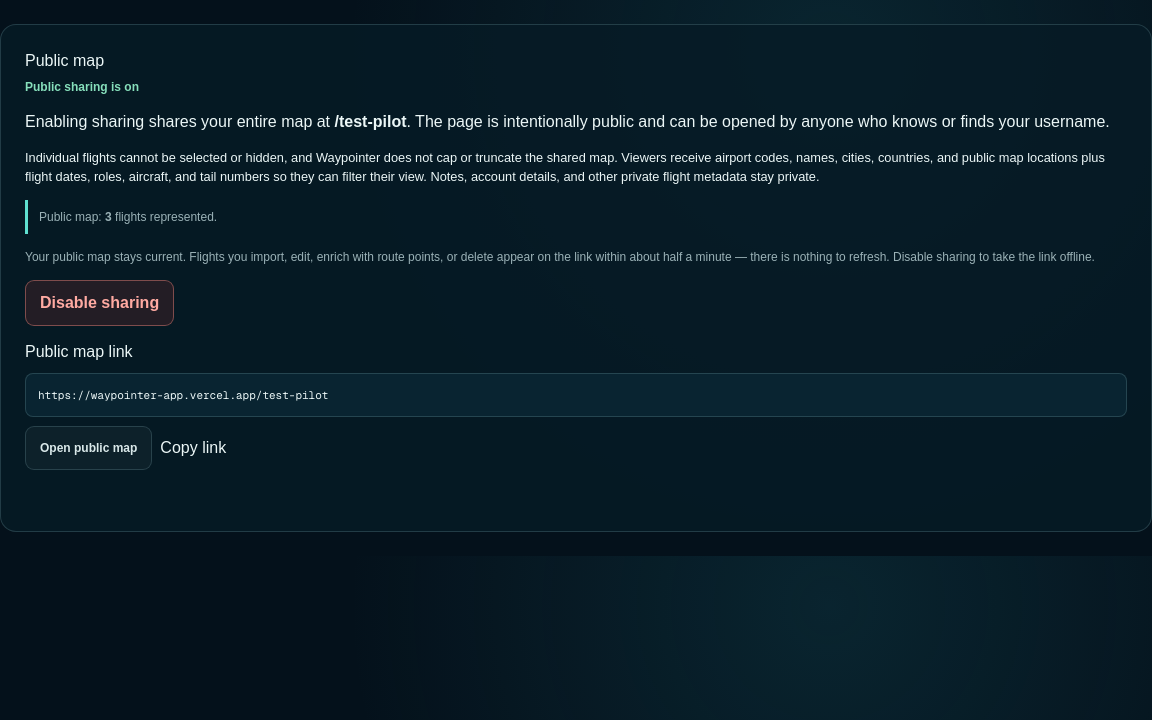
Scenario: MapSharingPanel › links to the full public URL in a safe new tab and disables sharing
Expected: the text "Public sharing is on" is shown, x1=25 y1=78 x2=139 y2=96
Step 1. Click the button "Disable sharing" → x=100, y=303, box x1=25 y1=280 x2=174 y2=326
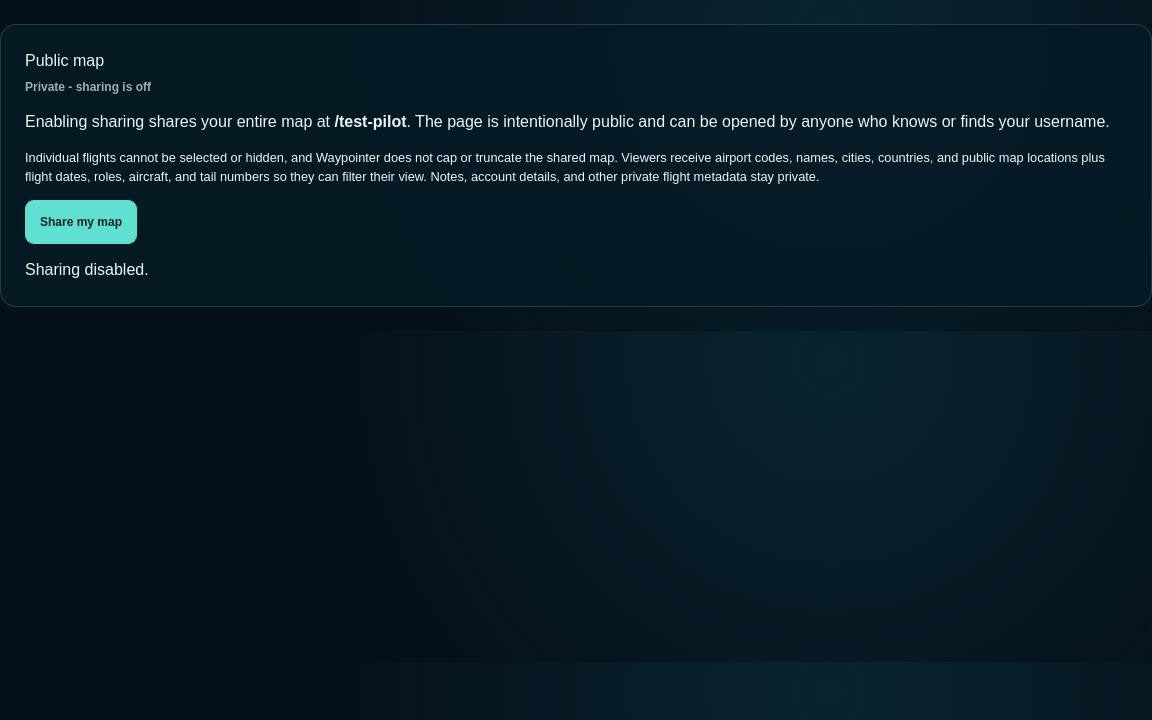
Expected: the text "Private - sharing is off" is shown, x1=25 y1=78 x2=151 y2=96
